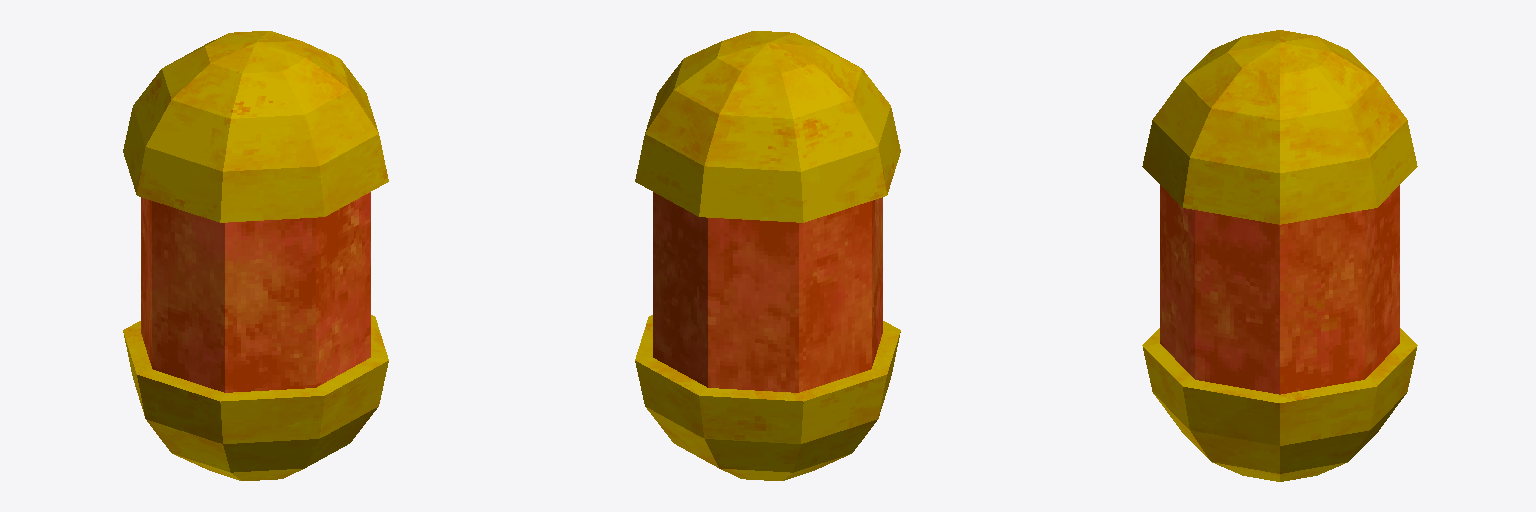
3 views of the same model, side by side, from view 1: azimuth 30°, elevation 25°; view 2: azimuth 150°, elevation 25°; view 3: azimuth 270°, elevation 25° (orthographic).
Parts seen in each view (by area): view 1: Baliza_fuego.001; view 2: Baliza_fuego.001; view 3: Baliza_fuego.001.
Part boxes in pixels (x1,y1,x2,y2): Baliza_fuego.001: (123, 31, 388, 480); Baliza_fuego.001: (635, 31, 900, 480); Baliza_fuego.001: (1142, 30, 1417, 481).
Size of the model in its own units: 6.2 by 10.6 by 6.2.
3 materials, 1 textured.